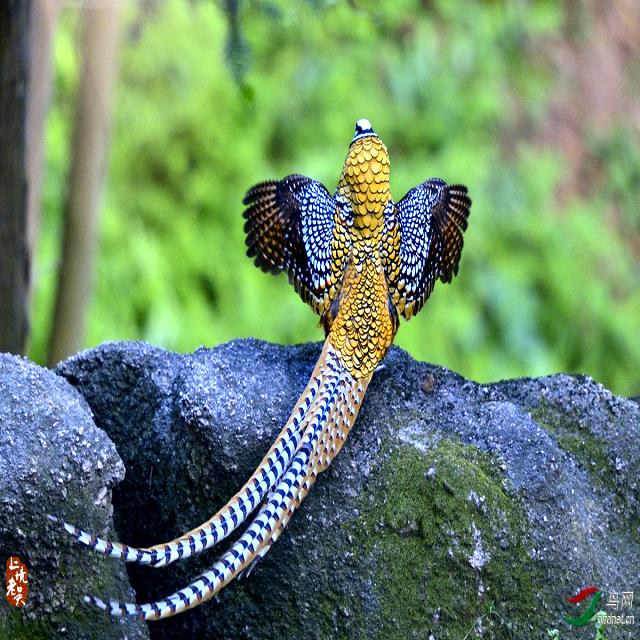Reeves-s Pheasant: (47, 339, 373, 622)
